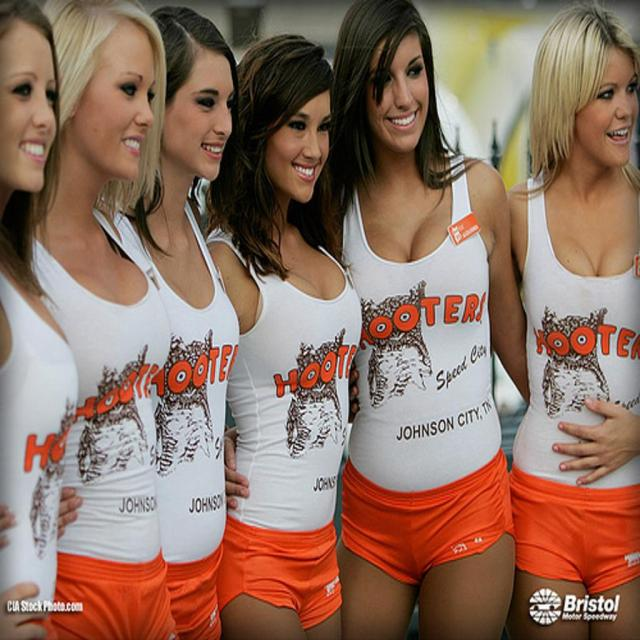nomask: (80, 23, 154, 177), (165, 50, 234, 180), (5, 22, 60, 185), (262, 82, 328, 205), (362, 30, 428, 150), (575, 43, 637, 167)
